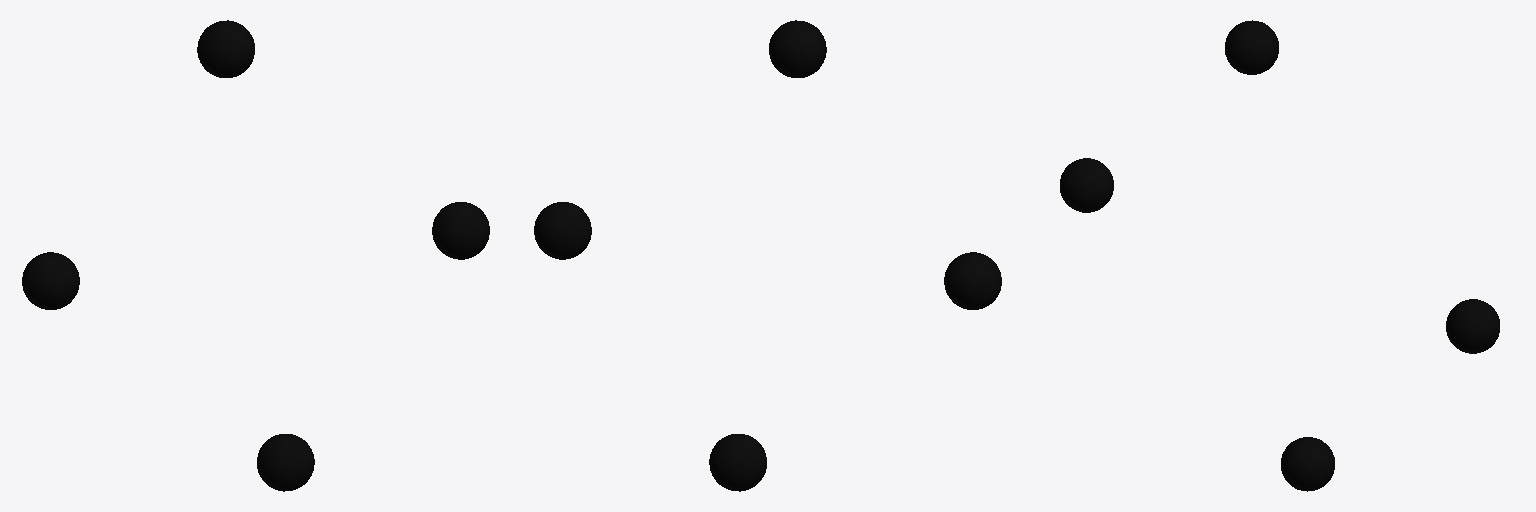
robot.urdf — suitcase:
<?xml version="1.0" ?>
<robot name="suitcase">
  <dynamics damping="0.5" friction="0.9"/>

  <link name="suitcase_link">
    <inertial>
      <mass value="0.1"/>
      <origin xyz="0 0 0"/>
      <inertia ixx="0.002" ixy="0" ixz="0" iyy="0.002" iyz="0" izz="0.002"/>
    </inertial>
    <contact>
      <lateral_friction value="0.9"/>
      <rolling_friction value="0.5"/>
      <stiffness value="30000"/>
      <damping value="1000"/>
    </contact>

    <!-- suitcase body visual -->
    <visual>
      <origin rpy="0 0 0" xyz="0 0 0"/>
      <geometry>
        <mesh filename="suitcase.obj" scale="1.0 1.0 1.0"/>
      </geometry>
      <material name="mat">
        <color rgba="0.7 0.8 0.9 1"/>
      </material>
    </visual>

    <!-- 4 wheels visual -->
    <visual>
      <origin rpy="0 0.8 0" xyz="-0.0236 -0.3 0.1623"/>
      <geometry>
        <sphere radius="0.02"/>
      </geometry>
      <material name="wheel_mat"><color rgba="0.08 0.08 0.08 1"/></material>
    </visual>
    <visual>
      <origin rpy="0 0.8 0" xyz="0.1629 -0.3 -0.0188"/>
      <geometry>
        <sphere radius="0.02"/>
      </geometry>
      <material name="wheel_mat"><color rgba="0.08 0.08 0.08 1"/></material>
    </visual>
    <visual>
      <origin rpy="0 0.8 0" xyz="-0.1629 -0.3 0.0188"/>
      <geometry>
        <sphere radius="0.02"/>
      </geometry>
      <material name="wheel_mat"><color rgba="0.08 0.08 0.08 1"/></material>
    </visual>
    <visual>
      <origin rpy="0 0.8 0" xyz="0.0236 -0.3 -0.1623"/>
      <geometry>
        <sphere radius="0.02"/>
      </geometry>
      <material name="wheel_mat"><color rgba="0.08 0.08 0.08 1"/></material>
    </visual>

    <!-- body collision lifted a bit so wheel collisions dominate ground contact -->
    <collision>
      <origin rpy="0 0 0" xyz="0 0 0.04"/>
      <geometry>
        <mesh filename="suitcase.obj" scale="1.0 1.0 1.0"/>
      </geometry>
    </collision>

    <!-- 4 wheels collision -->
    <collision>
      <origin rpy="0 0.8 0" xyz="-0.0236 -0.3 0.1623"/>
      <geometry>
        <sphere radius="0.02"/>
      </geometry>
    </collision>
    <collision>
      <origin rpy="0 0.8 0" xyz="0.1629 -0.3 -0.0188"/>
      <geometry>
        <sphere radius="0.02"/>
      </geometry>
    </collision>
    <collision>
      <origin rpy="0 0.8 0" xyz="-0.1629 -0.3 0.0188"/>
      <geometry>
        <sphere radius="0.02"/>
      </geometry>
    </collision>
    <collision>
      <origin rpy="0 0.8 0" xyz="0.0236 -0.3 -0.1623"/>
      <geometry>
        <sphere radius="0.02"/>
      </geometry>
    </collision>
  </link>
</robot>

--- Render facts (derived) ---
The picture shows the robot from 3 angles, left to right: view 1: azimuth 30°, elevation 25°; view 2: azimuth 150°, elevation 25°; view 3: azimuth 330°, elevation 25°; orthographic projection.
Model suitcase with 1 links and 0 joints (none), rooted at suitcase_link, posed all joints at 0.
Links seen in each view (by area): view 1: suitcase_link; view 2: suitcase_link; view 3: suitcase_link.
Boxes of the visible links, x1,y1,x2,y2 form: suitcase_link: (22,20,489,491); suitcase_link: (534,20,1001,491); suitcase_link: (1060,20,1499,491).
Bounding box of the posed robot: 0.3658 × 0.04 × 0.3646 m (x, y, z).
Meshes: 1 distinct files referenced, 0 mesh visuals loaded (none loaded); not drawn: 1 (reference not matched to a file when rendering).
